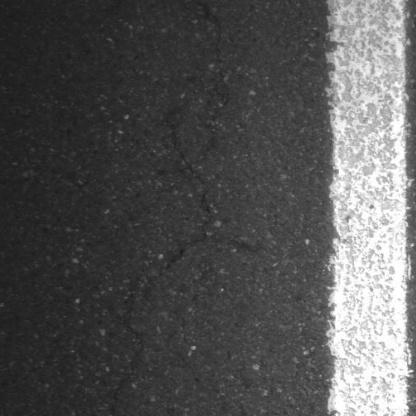Cracks: (158, 118, 218, 275), (181, 0, 234, 163), (107, 293, 149, 416)
